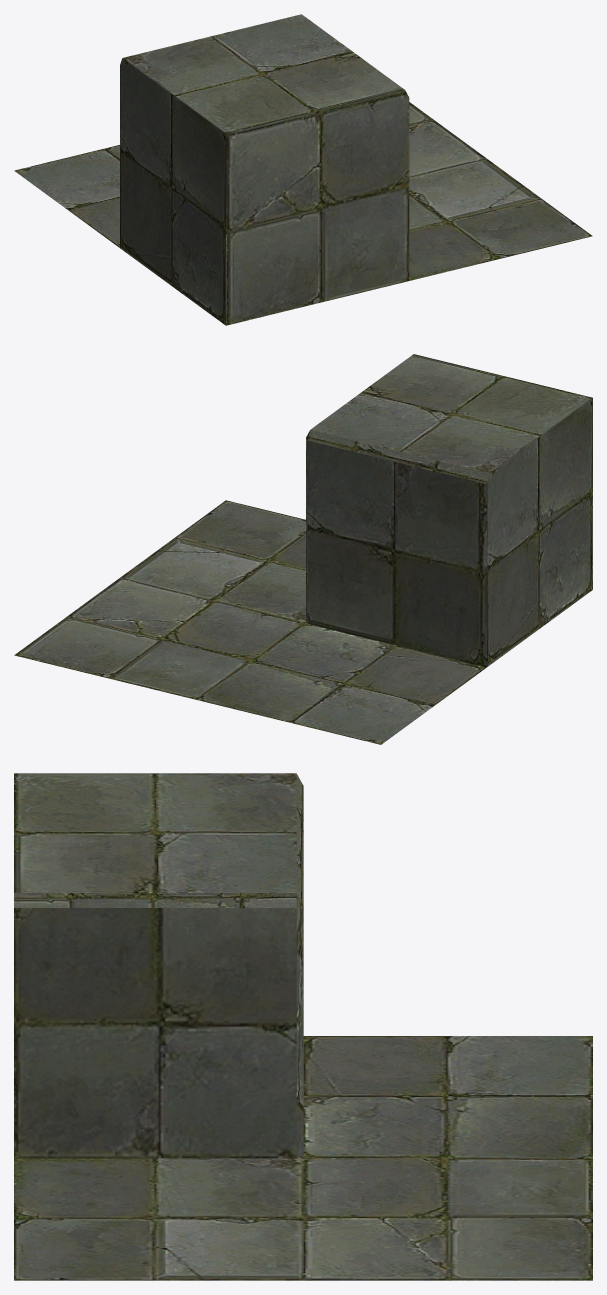
The model's file is block prc corner2.fbx.
3 views of the same model, one above another, from view 1: azimuth 30°, elevation 25°; view 2: azimuth 150°, elevation 25°; view 3: azimuth 270°, elevation 25° (orthographic). The views are drawn at different scales.
Parts seen in each view (by area): view 1: Stairs_Corner; view 2: Stairs_Corner; view 3: Stairs_Corner.
Part boxes in pixels (x1=…): Stairs_Corner: x1=14, y1=14, x2=592, y2=325; Stairs_Corner: x1=14, y1=354, x2=592, y2=744; Stairs_Corner: x1=14, y1=773, x2=592, y2=1280.
Bounding box in the file's own units: 100 × 50 × 100.
